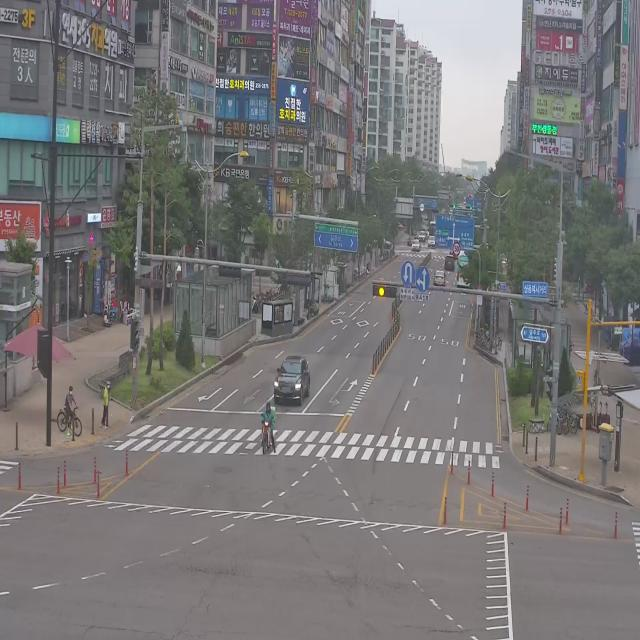Bus: (455, 251, 476, 291)
Car: (273, 354, 310, 406), (619, 326, 640, 364), (433, 268, 446, 286), (444, 253, 454, 270), (412, 238, 421, 252), (427, 235, 436, 248), (418, 230, 426, 242)
Motorcycle: (261, 402, 276, 454)
